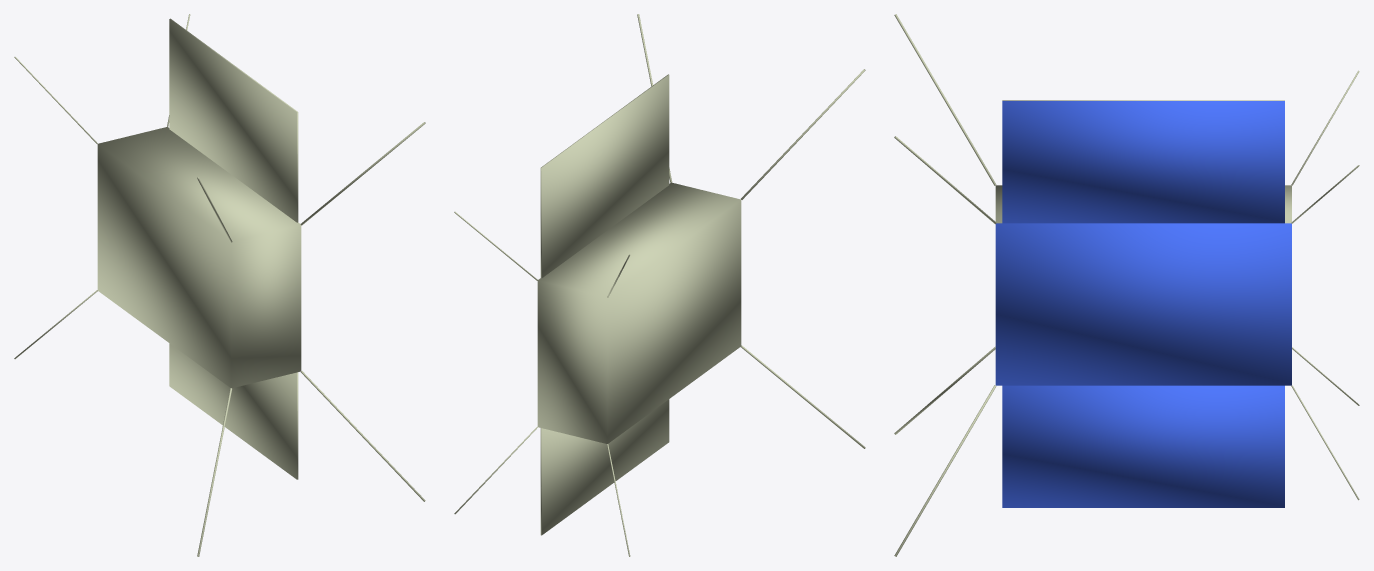
File: snoopi_deployed.obj
3 views of the same model, side by side, from view 1: azimuth 30°, elevation 25°; view 2: azimuth 150°, elevation 25°; view 3: azimuth 270°, elevation 25° (orthographic). The views are drawn at different scales.
Visible parts, largest first — view 1: Cylinder11_copy14_default; view 2: Cylinder11_copy14_default; view 3: Cylinder11_copy14_SOLAR_CELL, Cylinder11_copy14_default.
Part boxes in pixels (bbox=[...]): Cylinder11_copy14_default: bbox=[14, 14, 425, 556]; Cylinder11_copy14_default: bbox=[454, 14, 865, 556]; Cylinder11_copy14_SOLAR_CELL: bbox=[995, 101, 1291, 507]; Cylinder11_copy14_default: bbox=[894, 14, 1359, 556].
Bounding box in the file's own units: 0.3616 × 0.5748 × 0.5761.
